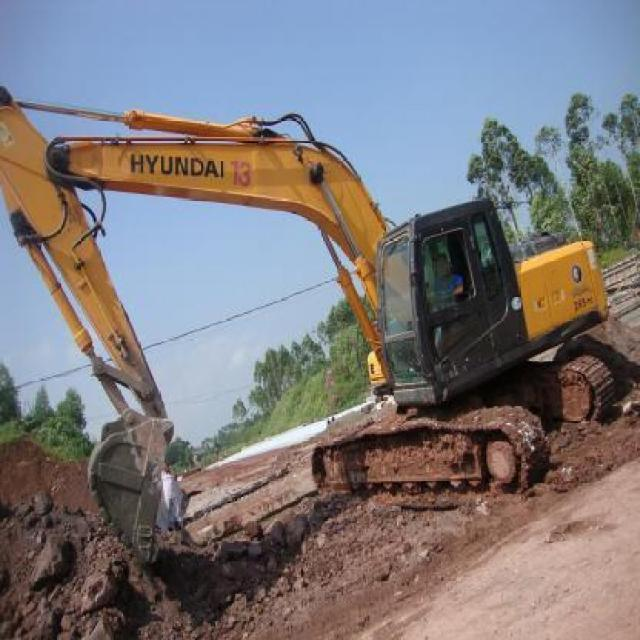Excavator: (0, 83, 623, 569)
